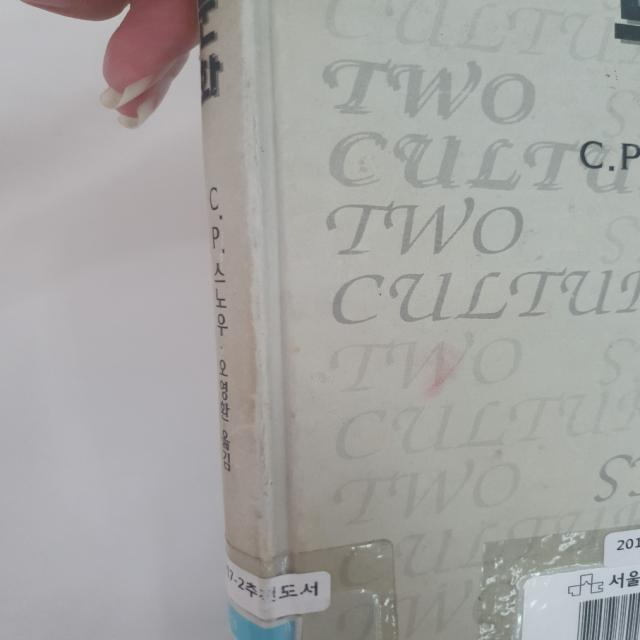Wornout: (236, 27, 282, 555)
